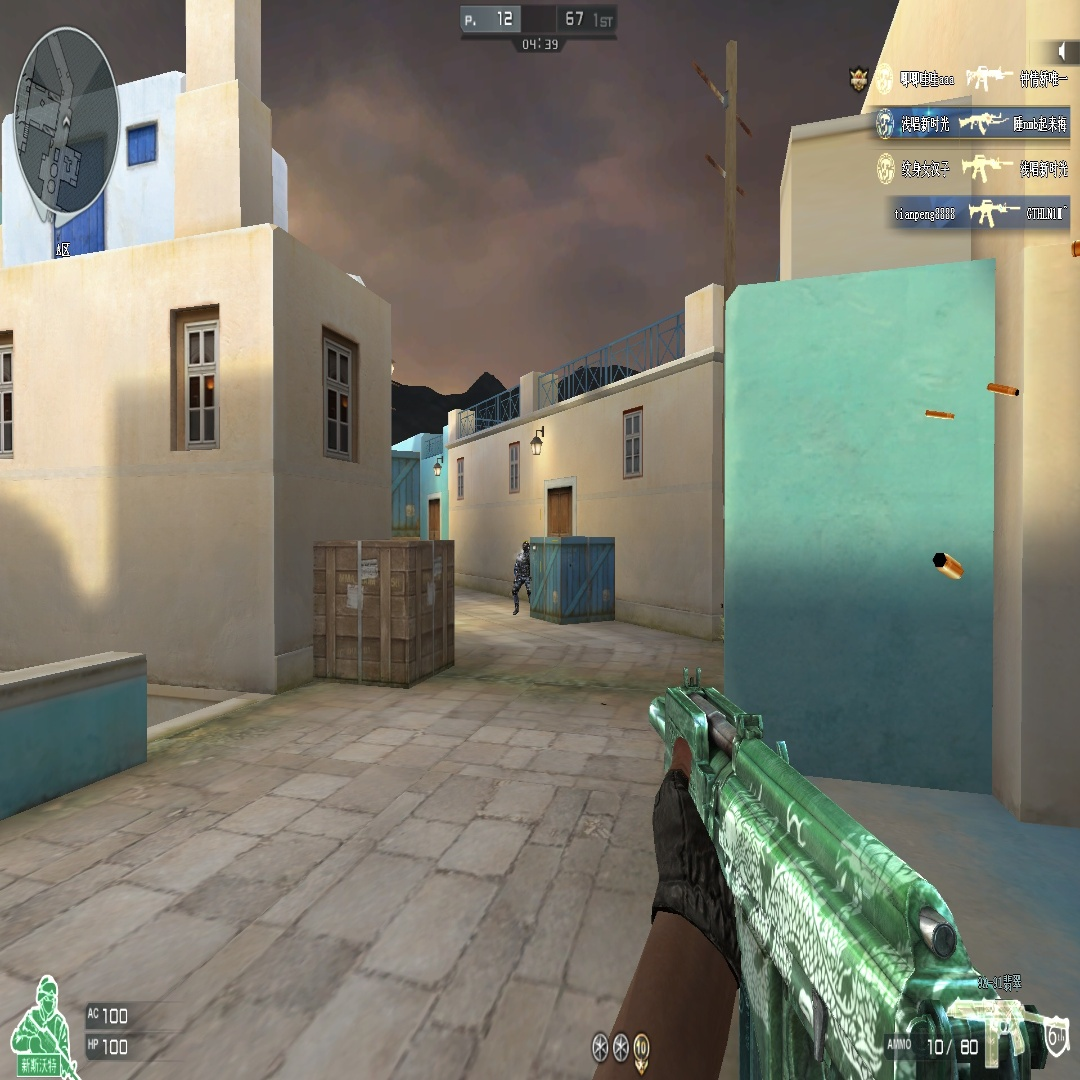head: (521, 541, 529, 553)
p: (512, 540, 532, 615)
